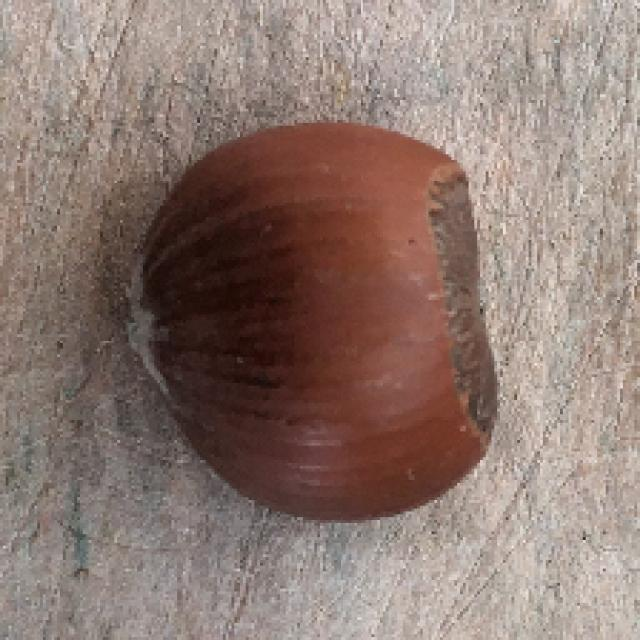DamagedHazelnut: (129, 124, 505, 520)
